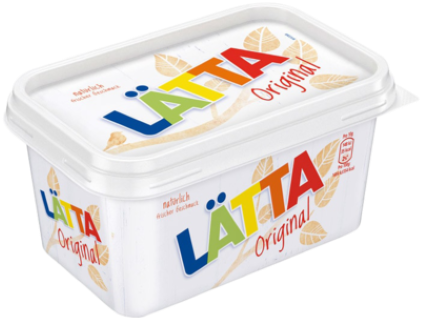laetta: (3, 2, 419, 316)
